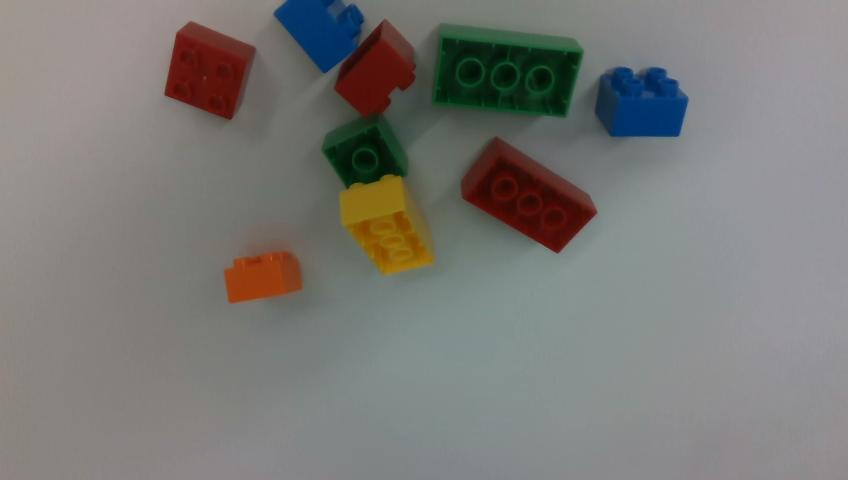2x2_blue: (275, 0, 363, 72), (596, 67, 688, 135)
2x2_green: (322, 116, 407, 187)
2x2_orange: (225, 251, 302, 302)
2x2_red: (164, 22, 255, 119), (335, 20, 415, 115)
4x2_green: (434, 25, 582, 115)
4x2_red: (463, 138, 596, 252)
4x2_yellow: (341, 175, 434, 274)
